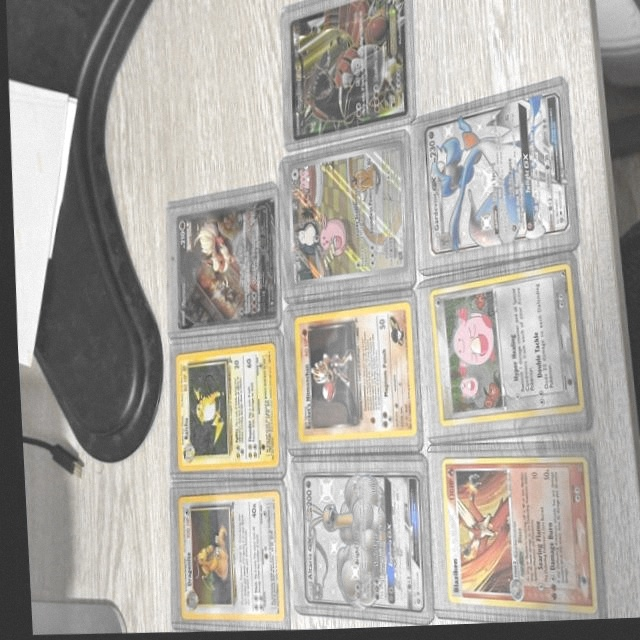card: (425, 263, 581, 429), (419, 89, 569, 260), (435, 458, 591, 619), (295, 471, 421, 615), (290, 300, 414, 442), (287, 139, 405, 288), (289, 0, 405, 139), (172, 488, 278, 621), (172, 197, 275, 330), (171, 339, 274, 471)
